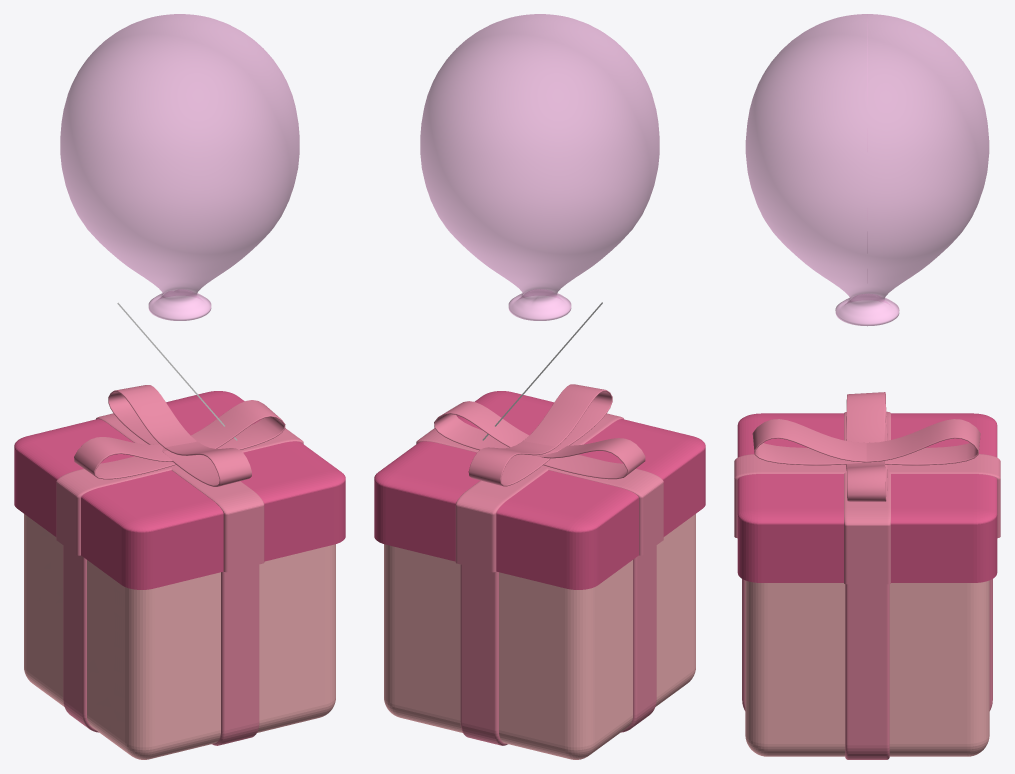
Rendered from gift.glb.
The picture shows the model from 3 angles, left to right: view 1: azimuth 30°, elevation 25°; view 2: azimuth 150°, elevation 25°; view 3: azimuth 270°, elevation 25°; orthographic projection.
Parts seen in each view (by area): view 1: Sphere, Cube, Cube.003, Cube.001, BézierCurve, BézierCurve.001, Cube.004, Cube.002, Cube.005; view 2: Sphere, Cube, Cube.003, Cube.001, BézierCurve.001, BézierCurve, Cube.004, Cube.002, Cube.005; view 3: Sphere, Cube, Cube.003, Cube.002, BézierCurve.001, Cube.005, BézierCurve, Cube.004, Cube.001.
Boxes of the visible parts, <box> form: Sphere: <box>60,14,299,320</box>; Cube: <box>24,514,335,759</box>; Cube.003: <box>14,391,345,589</box>; Cube.001: <box>212,564,259,745</box>; BézierCurve: <box>74,400,285,479</box>; BézierCurve.001: <box>108,385,251,486</box>; Cube.004: <box>96,413,264,572</box>; Cube.002: <box>63,545,98,732</box>; Cube.005: <box>56,428,303,555</box>; Sphere: <box>420,14,659,320</box>; Cube: <box>384,514,695,759</box>; Cube.003: <box>374,391,705,589</box>; Cube.001: <box>460,564,507,745</box>; BézierCurve.001: <box>468,384,612,486</box>; BézierCurve: <box>434,401,645,479</box>; Cube.004: <box>455,413,623,572</box>; Cube.002: <box>621,545,656,732</box>; Cube.005: <box>416,428,663,555</box>; Sphere: <box>745,14,989,326</box>; Cube: <box>745,580,989,756</box>; Cube.003: <box>737,413,997,582</box>; Cube.002: <box>845,584,889,759</box>; BézierCurve.001: <box>752,419,980,465</box>; Cube.005: <box>844,411,890,584</box>; BézierCurve: <box>846,392,887,501</box>; Cube.004: <box>734,454,1000,538</box>; Cube.001: <box>742,579,992,710</box>.
Bounding box in the file's own units: 2.18 × 6.24 × 2.18.
